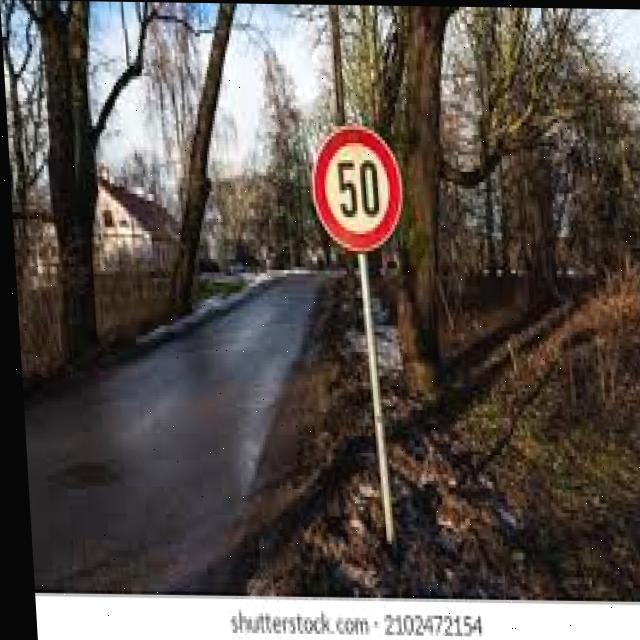Speed limit 50: (304, 119, 406, 255)
